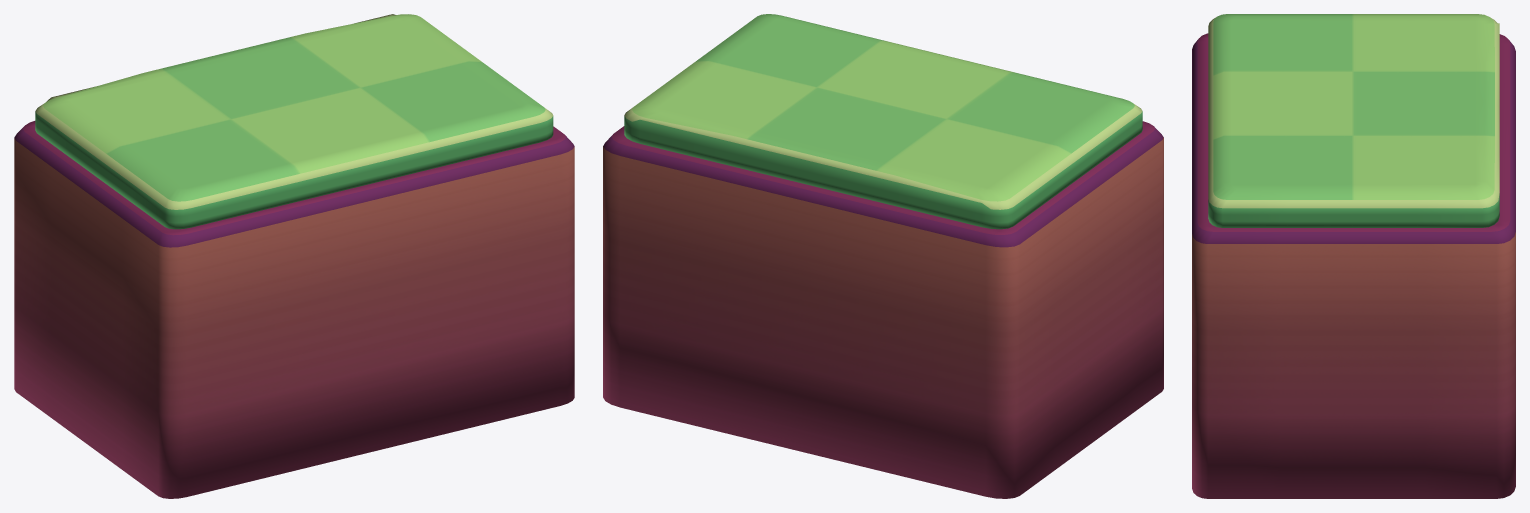
3 views of the same model, side by side, from view 1: azimuth 30°, elevation 25°; view 2: azimuth 150°, elevation 25°; view 3: azimuth 270°, elevation 25° (orthographic).
Parts seen in each view (by area): view 1: Platform Soil 3, Platform Grass.3; view 2: Platform Soil 3, Platform Grass.3; view 3: Platform Soil 3, Platform Grass.3.
Part boxes in pixels (left/top/right/bottom): Platform Soil 3: left=14, top=121, right=574, bottom=498; Platform Grass.3: left=35, top=14, right=553, bottom=229; Platform Soil 3: left=603, top=121, right=1163, bottom=498; Platform Grass.3: left=624, top=14, right=1142, bottom=229; Platform Soil 3: left=1192, top=33, right=1515, bottom=498; Platform Grass.3: left=1208, top=14, right=1499, bottom=227.
Size of the model in its own units: 300 by 200 by 200.
Materials: 2 (2 with a texture image).
